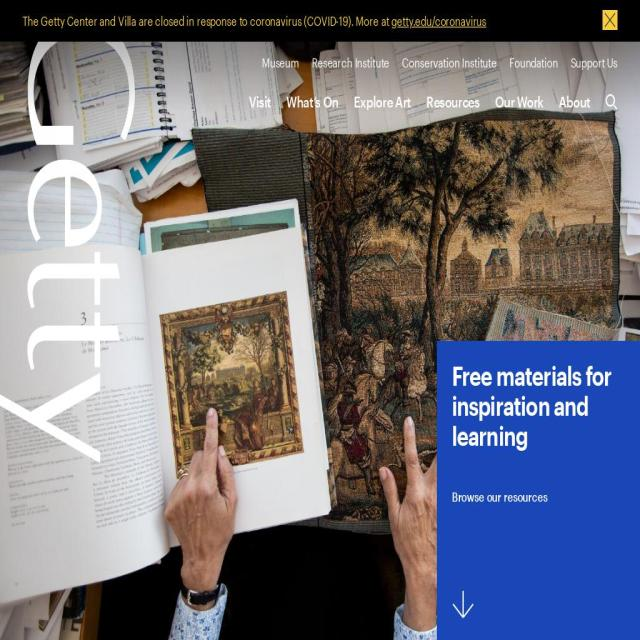button: (451, 361, 625, 503), (451, 589, 554, 620), (402, 55, 497, 71), (311, 55, 390, 71), (353, 94, 411, 110), (426, 94, 480, 110), (286, 94, 339, 110), (494, 94, 544, 110), (509, 55, 558, 71), (570, 55, 618, 71), (262, 55, 300, 71), (558, 94, 591, 110), (248, 94, 272, 110), (602, 10, 618, 30), (606, 94, 618, 113)
heading: (451, 361, 625, 451)
image: (0, 41, 640, 640), (0, 14, 336, 196), (452, 590, 474, 620), (606, 94, 618, 110)
link: (391, 14, 487, 28)
text: (22, 14, 392, 28), (451, 491, 625, 503)
